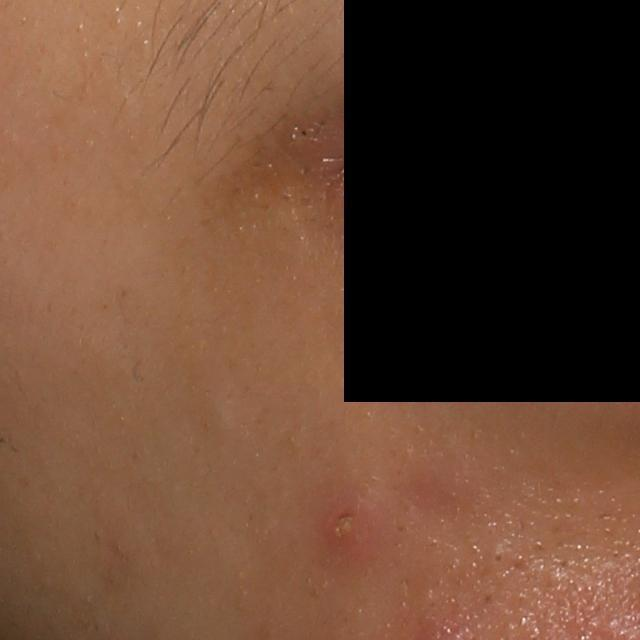comedo: (487, 549, 506, 567)
